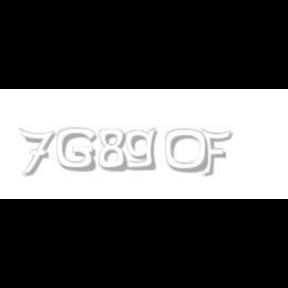7: (20, 128, 56, 178)
8: (98, 128, 128, 172)
F: (200, 128, 232, 178)
G: (56, 128, 96, 172)
O: (164, 128, 210, 174)
g: (124, 128, 162, 171)
